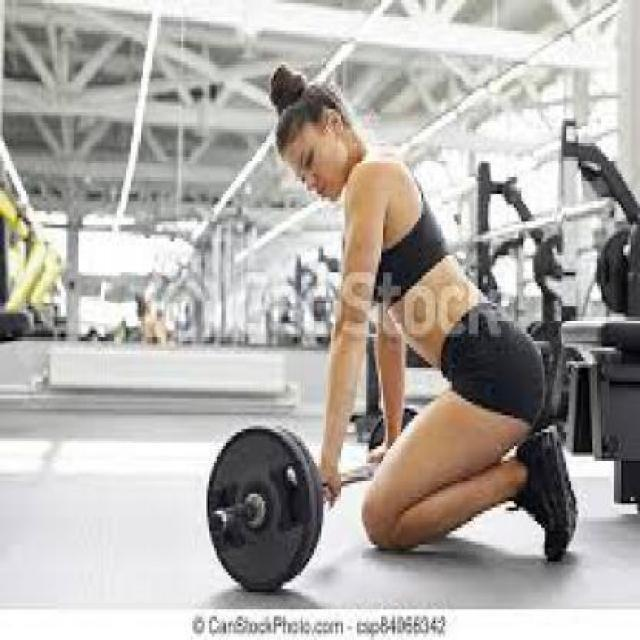Barbell: (204, 504, 233, 538)
